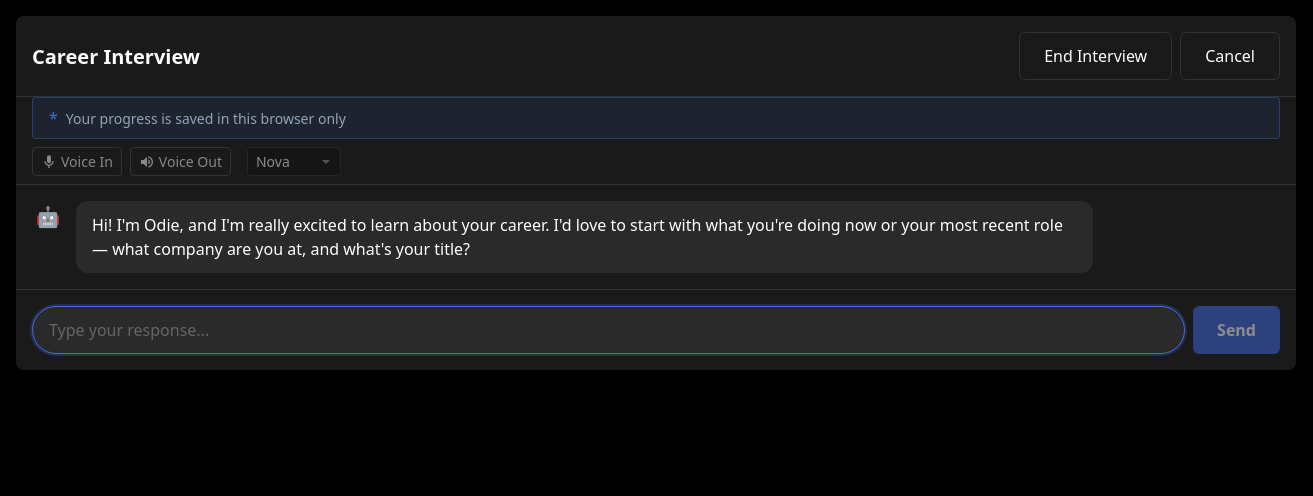
Test: InterviewChat › error handling › should display error message when sendInterviewMessage throws in live mode
The image size is (1313, 496).
In the field with test id "interview-input": (609, 330) [32,306,1185,354], type "I worked at Acme Corp"
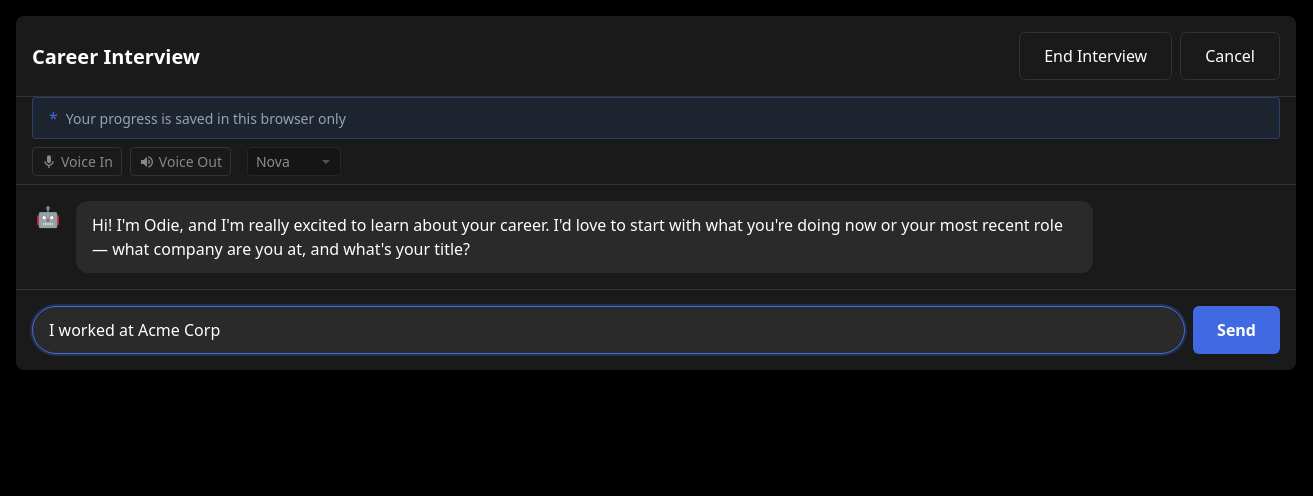
Click the button with test id "interview-send": (1237, 330) [1193,306,1280,354]
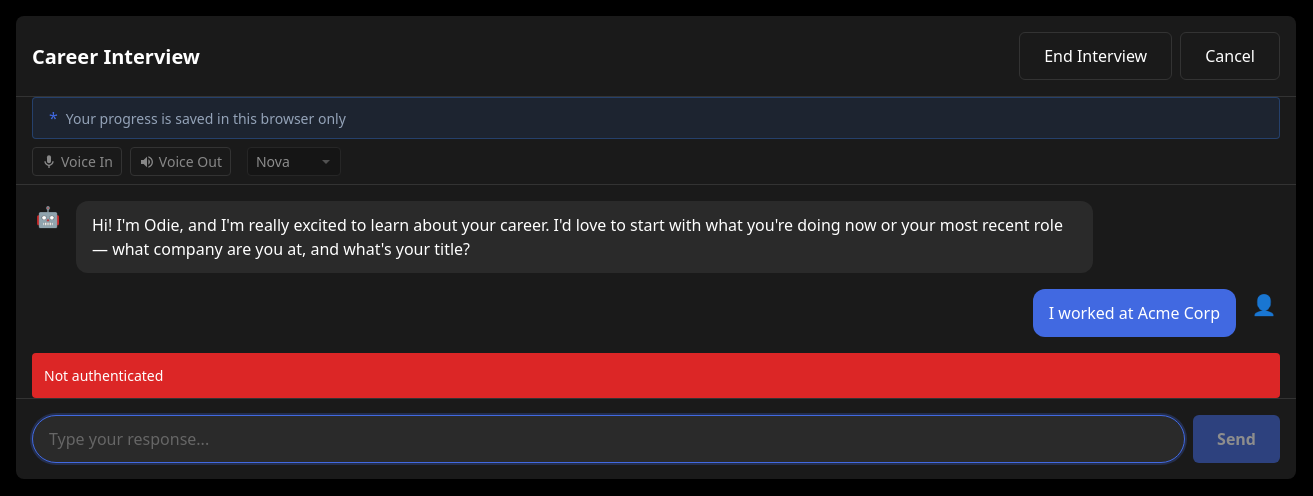
Now the text "Not authenticated" is shown, box [32,353,1280,398]
Now the text with test id "interview-error" reads "Not authenticated", box [44,366,163,385]
